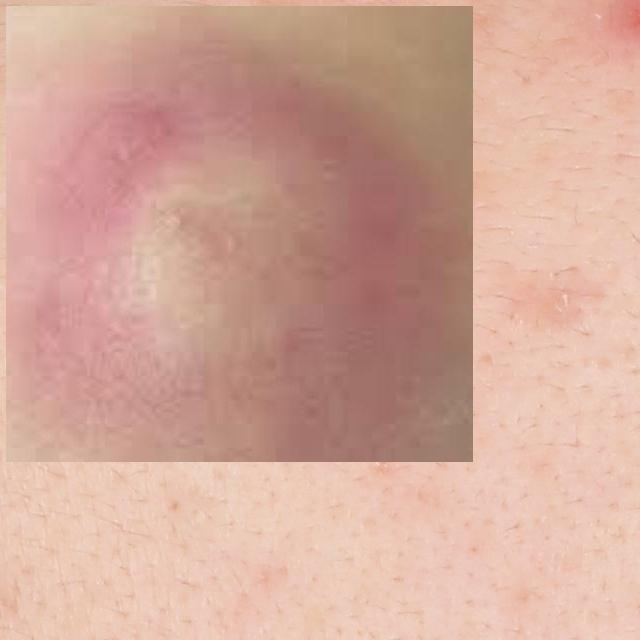nodule: (14, 14, 465, 459)
